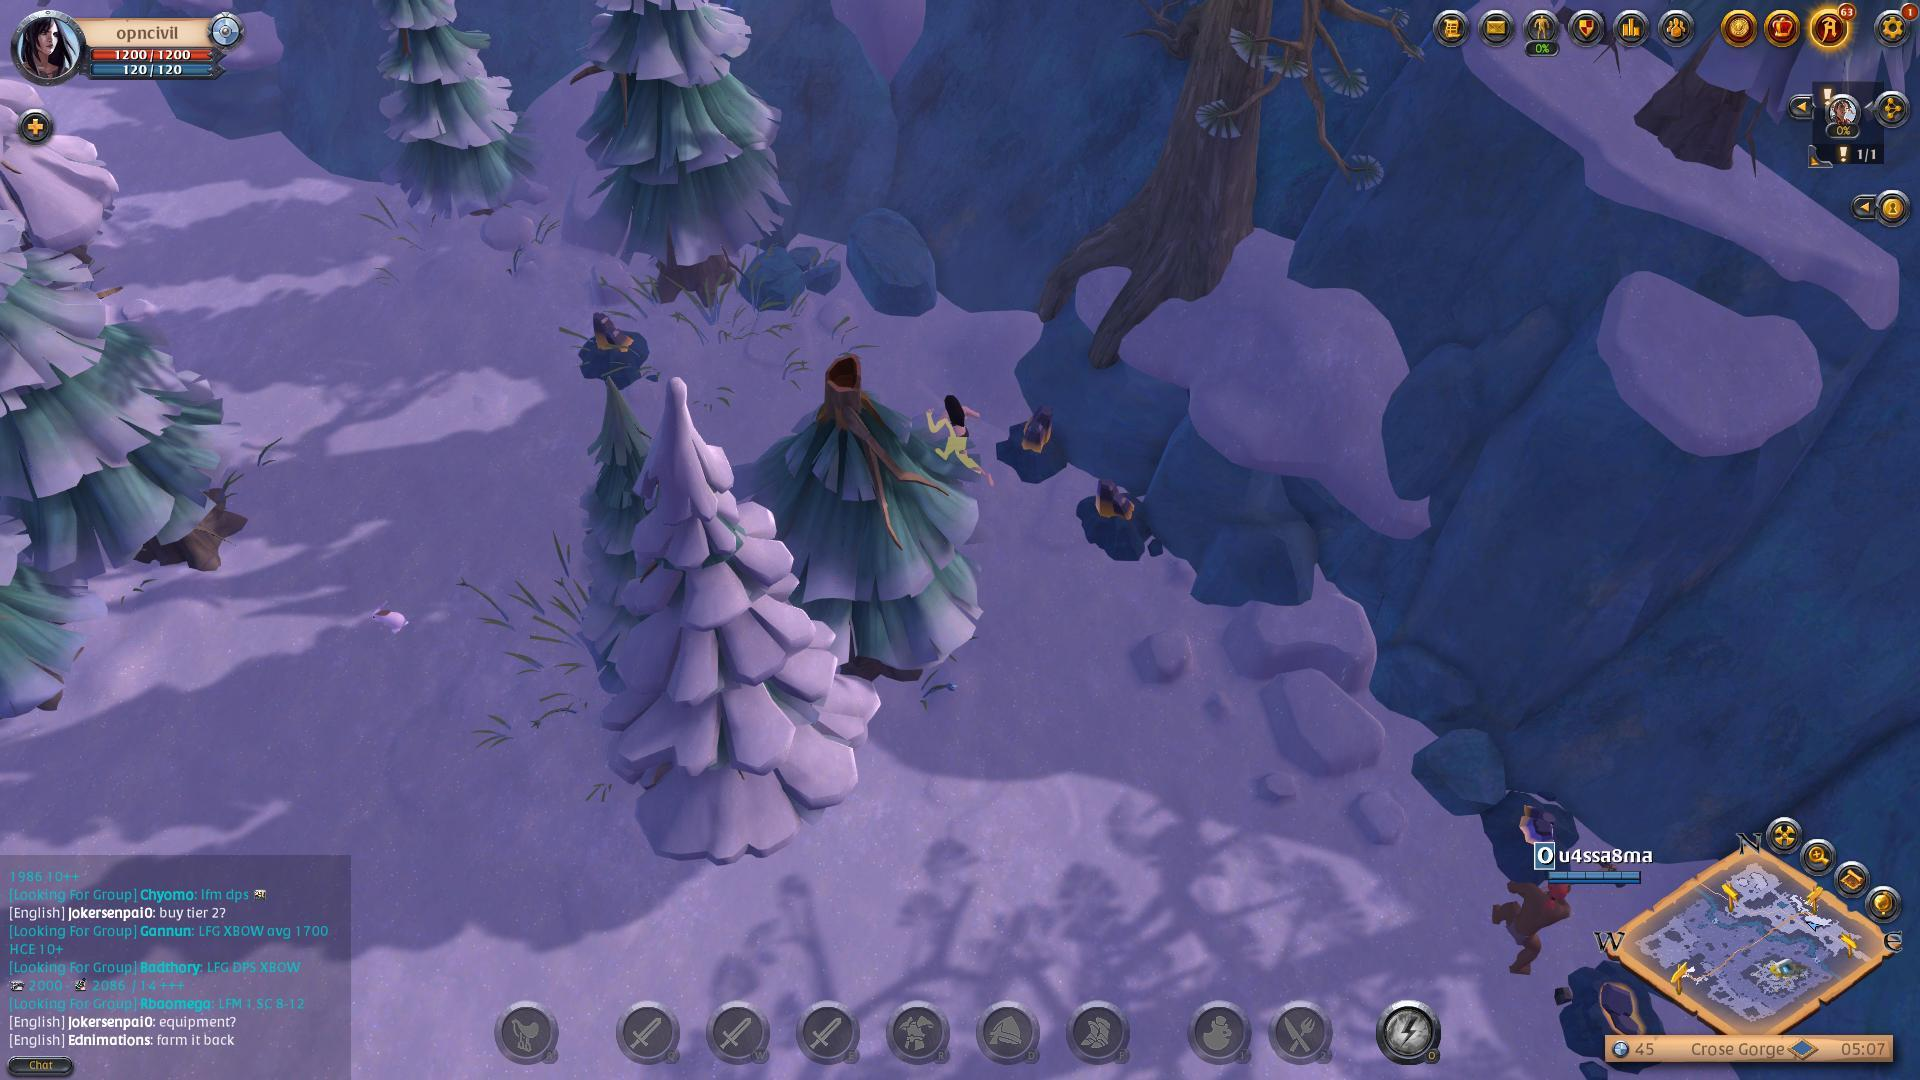copper_ore: (560, 319, 667, 381), (1064, 484, 1166, 547), (997, 401, 1069, 480)
